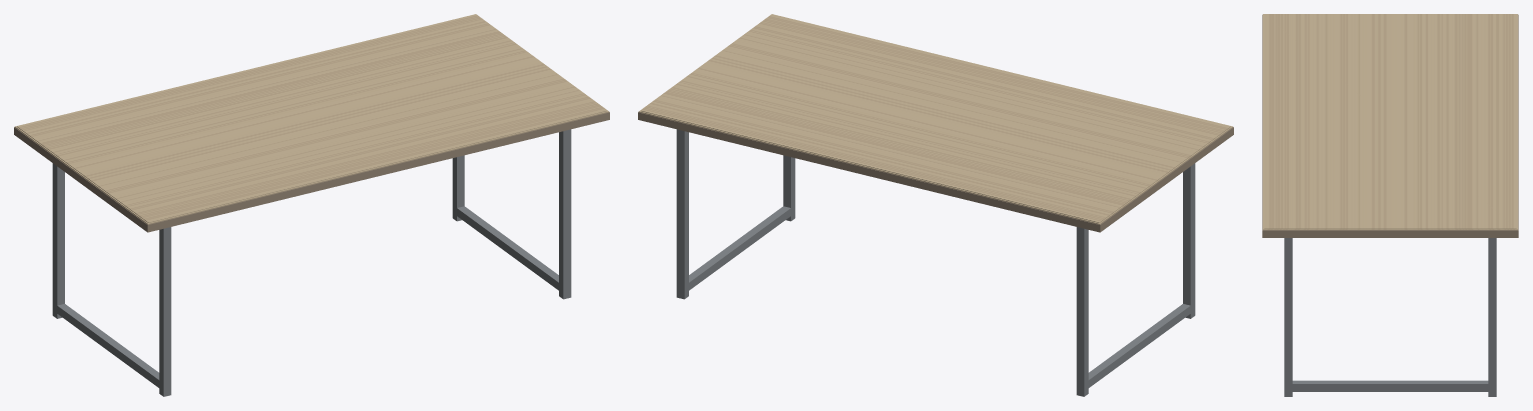
Rendered from table_meeting_folding.glb.
3 renders of one model, left to right at view 1: azimuth 30°, elevation 25°; view 2: azimuth 150°, elevation 25°; view 3: azimuth 270°, elevation 25°, orthographic. The views are drawn at different scales.
Visible parts, largest first — view 1: table_meeting_folding; view 2: table_meeting_folding; view 3: table_meeting_folding.
Part boxes in pixels (x1,y1,x2,y2): table_meeting_folding: (14, 14, 609, 396); table_meeting_folding: (638, 14, 1233, 396); table_meeting_folding: (1262, 14, 1518, 396).
Bounding box in the file's own units: 1.8 × 0.702 × 0.904.
Materials: 3 (1 with a texture image).
